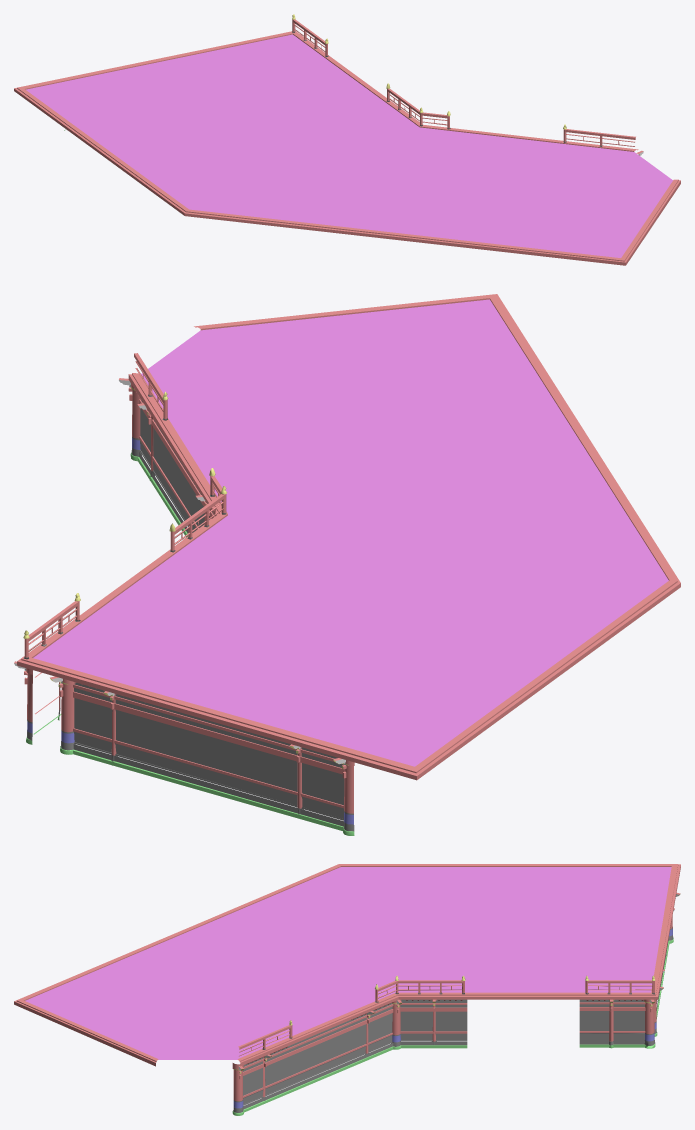
Rendered from SM_ENV_LKNVLD_WallSet_PlatformB_Lod2.gltf.
3 renders of one model, top to bottom at view 1: azimuth 30°, elevation 25°; view 2: azimuth 150°, elevation 25°; view 3: azimuth 270°, elevation 25°, orthographic. The views are drawn at different scales.
Parts seen in each view (by area): view 1: SM_ENV_LKNVLD_WallSet_PlatformB_Lod2; view 2: SM_ENV_LKNVLD_WallSet_PlatformB_Lod2; view 3: SM_ENV_LKNVLD_WallSet_PlatformB_Lod2.
Boxes of the visible parts, x1,y1,x2,y2 form: SM_ENV_LKNVLD_WallSet_PlatformB_Lod2: [14, 14, 680, 265]; SM_ENV_LKNVLD_WallSet_PlatformB_Lod2: [14, 294, 680, 835]; SM_ENV_LKNVLD_WallSet_PlatformB_Lod2: [14, 864, 680, 1115].
Bounding box in the file's own units: 48.44 × 8.12 × 67.74.
